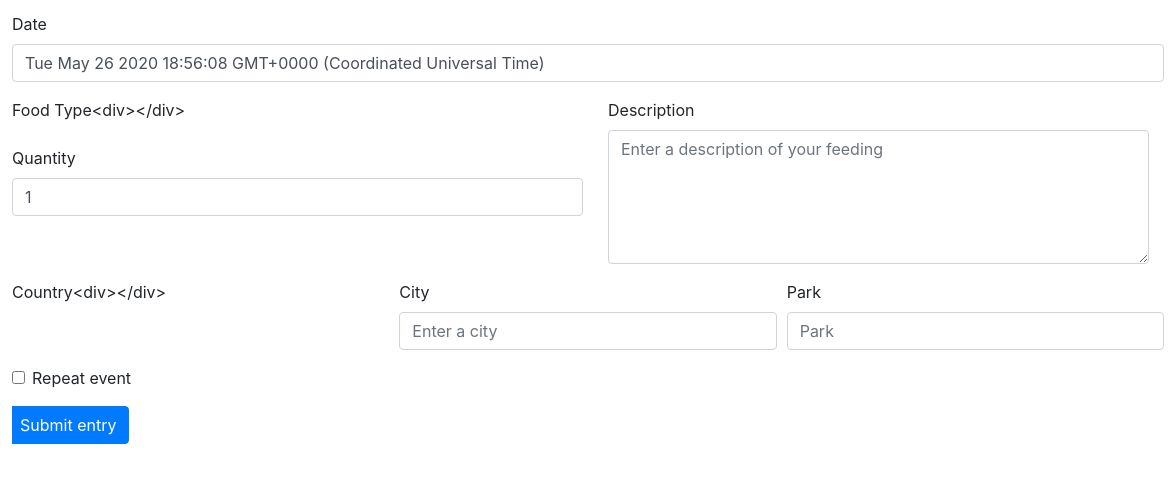
Scenario: when rendering component › City input field › should show error message when empty
The width and height of the screenshot is (1176, 484).
Step 1. Type "This is an initial value" into the field labelled "City" → coordinates (588, 331), box [399,312,777,350]
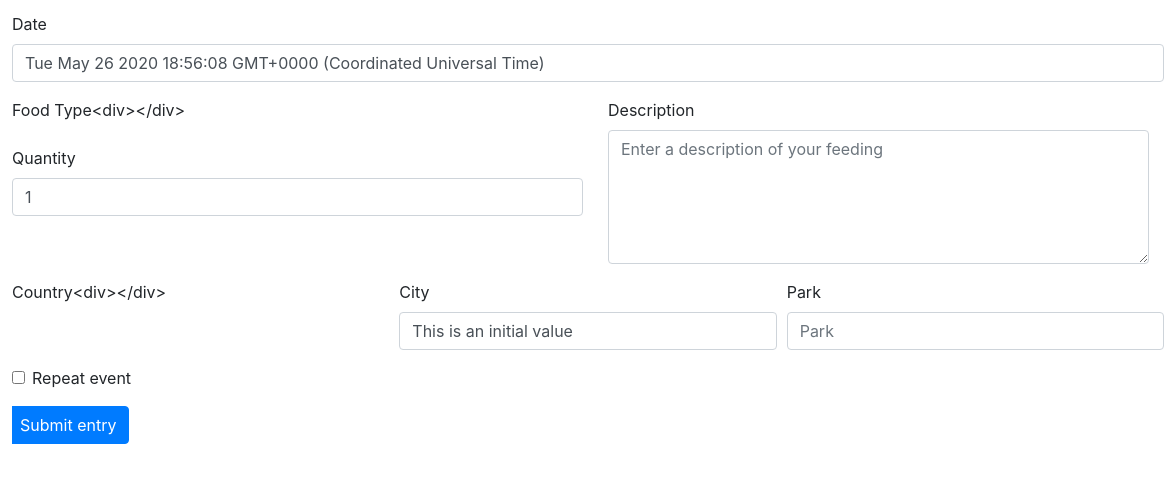
Step 2. Clear the field labelled "City" → coordinates (588, 331), box [399,312,777,350]
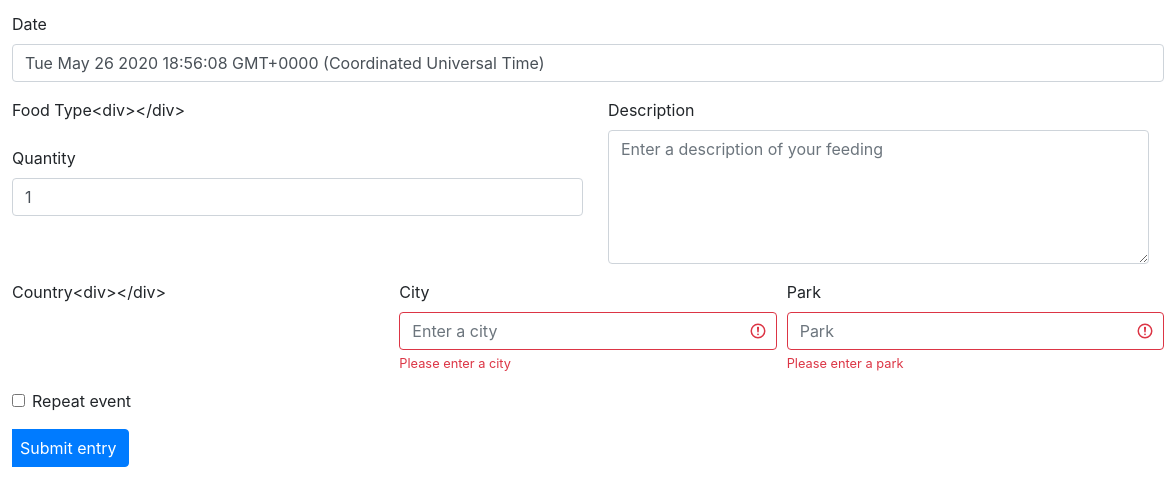
Expected: the text "Please enter a city" is shown, [399,356,511,371]
